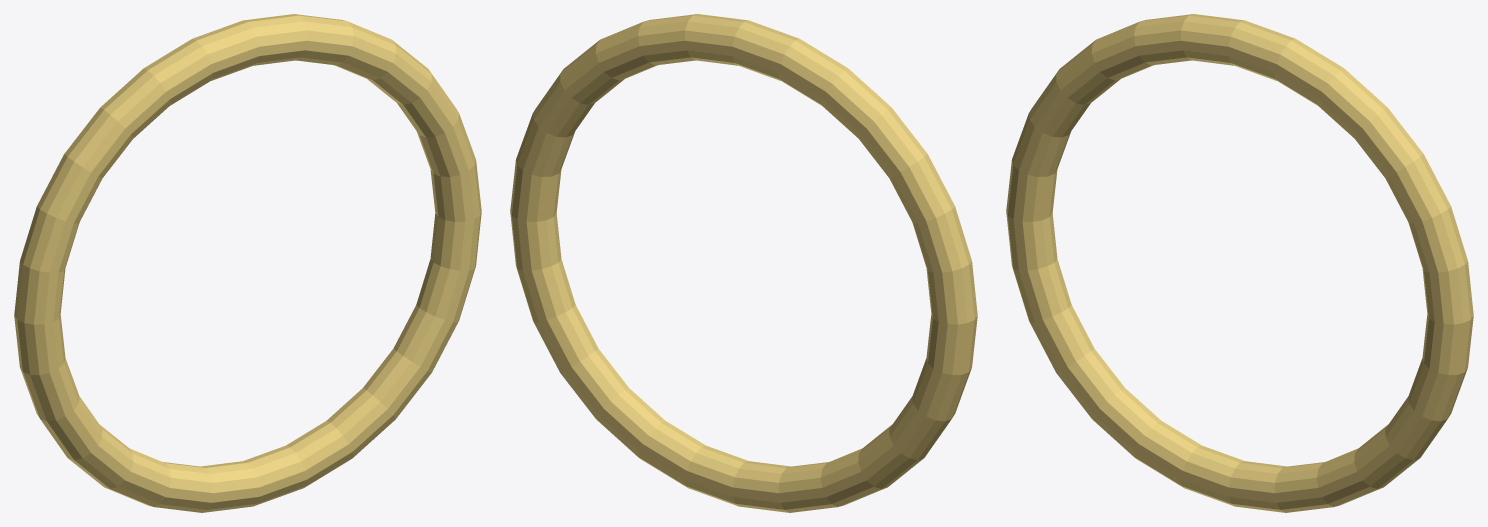
File: gold-hoop.glb
The picture shows the model from 3 angles, left to right: view 1: azimuth 30°, elevation 25°; view 2: azimuth 150°, elevation 25°; view 3: azimuth 330°, elevation 25°; orthographic projection.
Visible parts, largest first — view 1: Gold; view 2: Gold; view 3: Gold.
Boxes of the visible parts, x1,y1,x2,y2 form: Gold: (14, 14, 481, 512); Gold: (510, 14, 977, 512); Gold: (1006, 14, 1473, 512).
Size of the model in its own units: 26.3 by 26.3 by 2.24.
